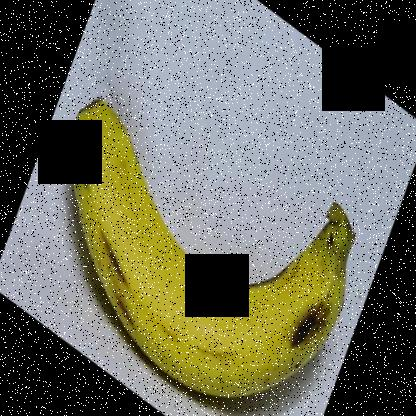freshripe: (57, 74, 376, 415)
